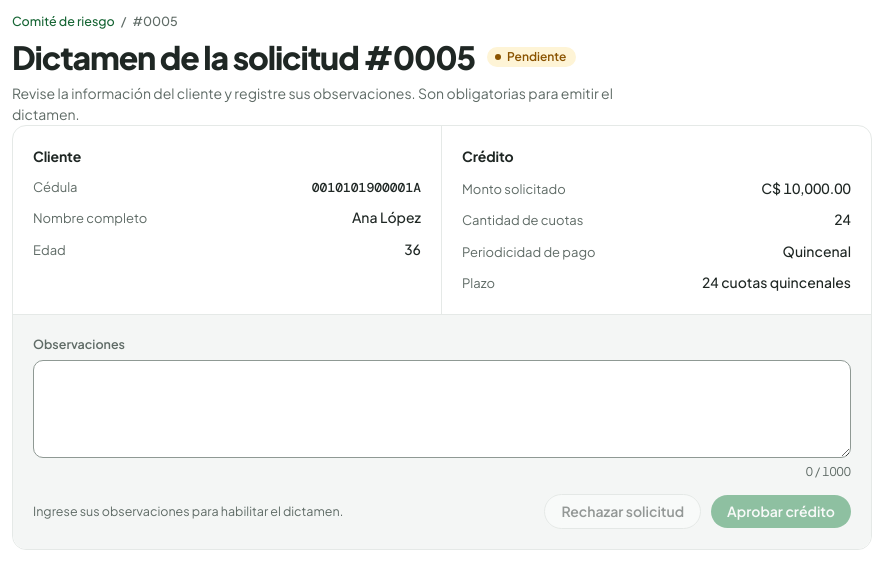
Scenario: DictamenPage › exige observaciones antes de pedir confirmación
This screenshot has width=889, height=567.
Click the button "Aprobar crédito": (781, 511) top-left (711, 494), bottom-right (851, 528)
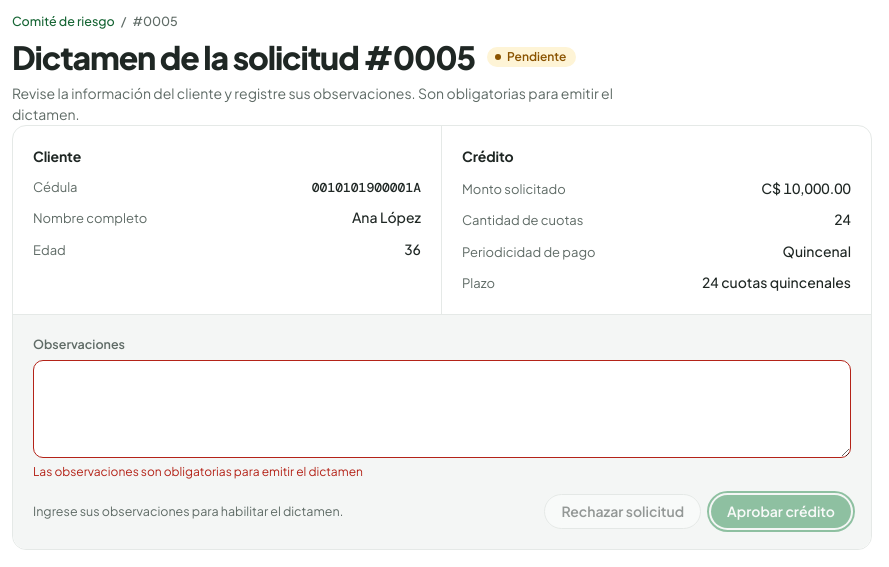
Expected: the text "Las observaciones son obligatorias para emitir el dictamen" is shown, top-left (33, 464), bottom-right (363, 478)
